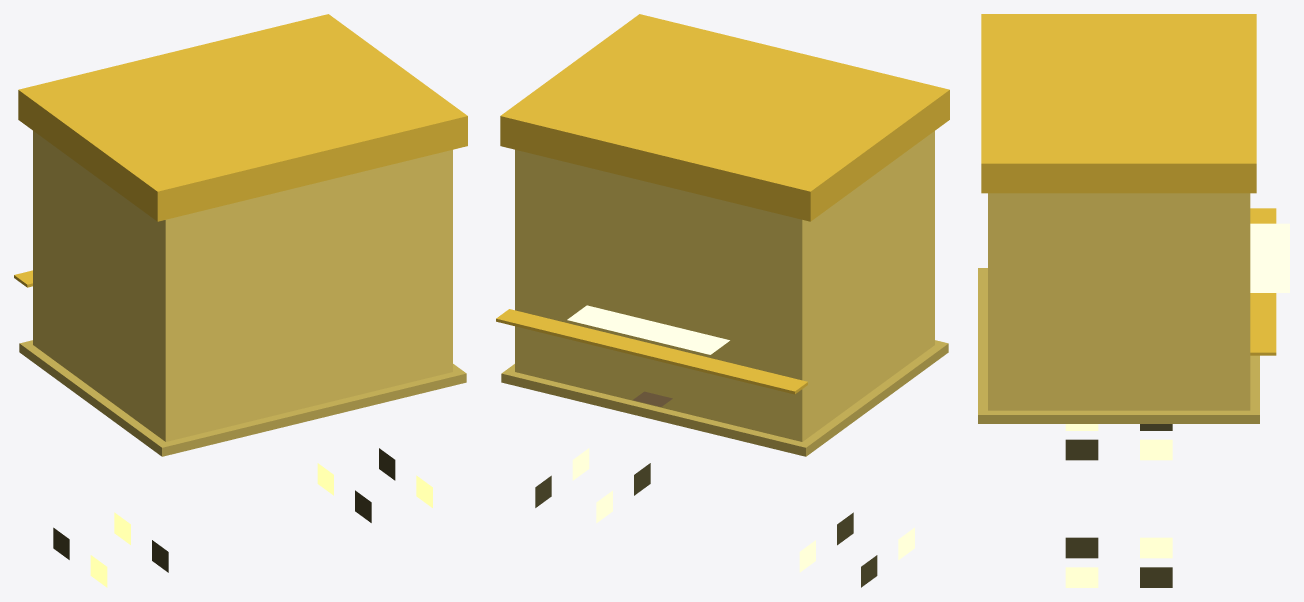
The model's file is shopping_mall.glb.
3 views of the same model, side by side, from view 1: azimuth 30°, elevation 25°; view 2: azimuth 150°, elevation 25°; view 3: azimuth 270°, elevation 25° (orthographic).
Parts seen in each view (by area): view 1: shopping_mall; view 2: shopping_mall; view 3: shopping_mall.
Boxes of the visible parts, bbox=[...] form: shopping_mall: bbox=[14, 14, 467, 587]; shopping_mall: bbox=[496, 14, 949, 587]; shopping_mall: bbox=[978, 14, 1289, 587].
Bounding box in the file's own units: 5.67 × 7.08 × 4.76.
